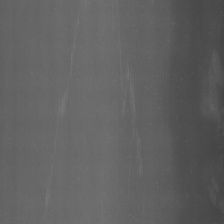silk_spot: (114, 37, 143, 170), (53, 14, 81, 116)
